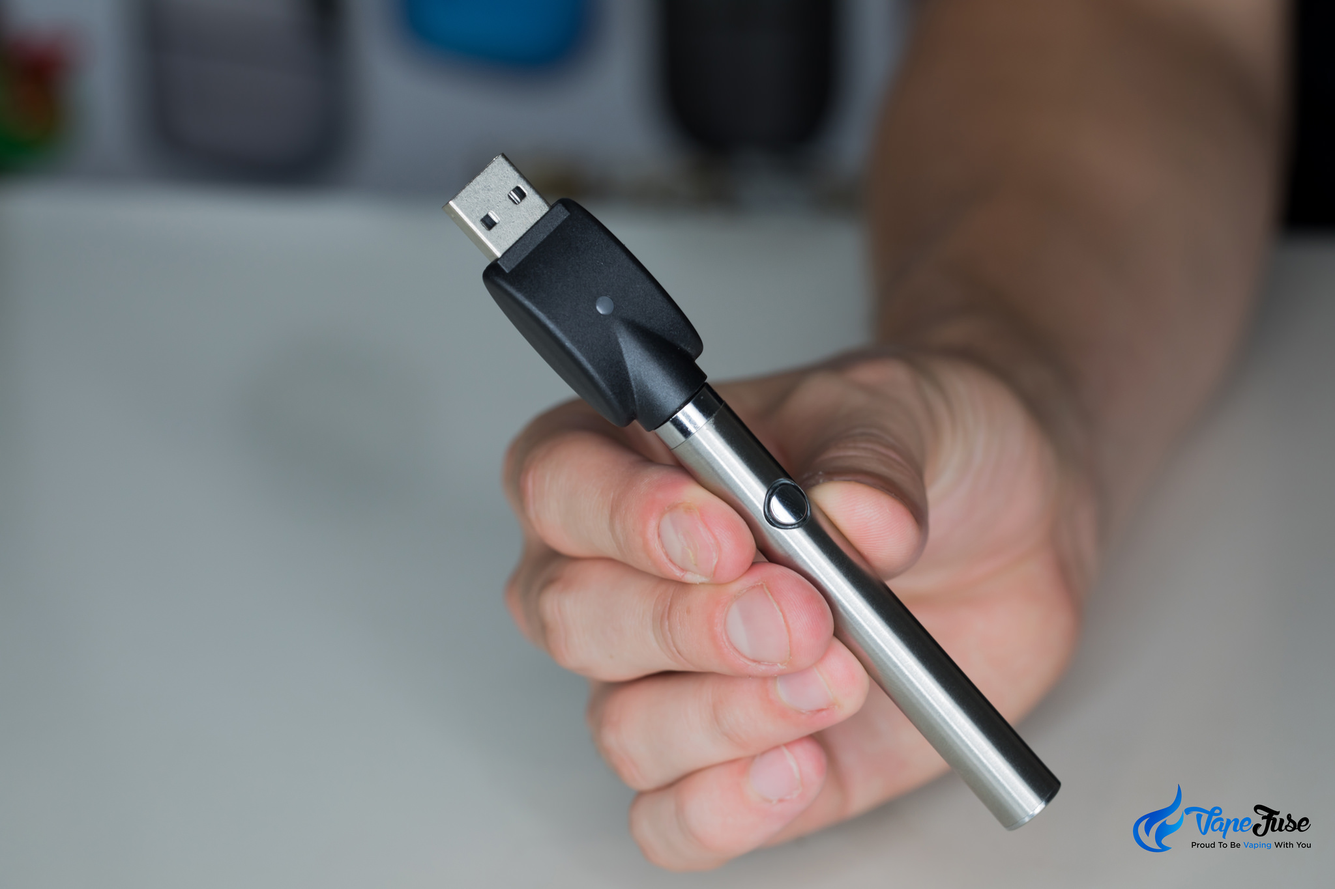weed_pen: (378, 86, 1196, 873)
